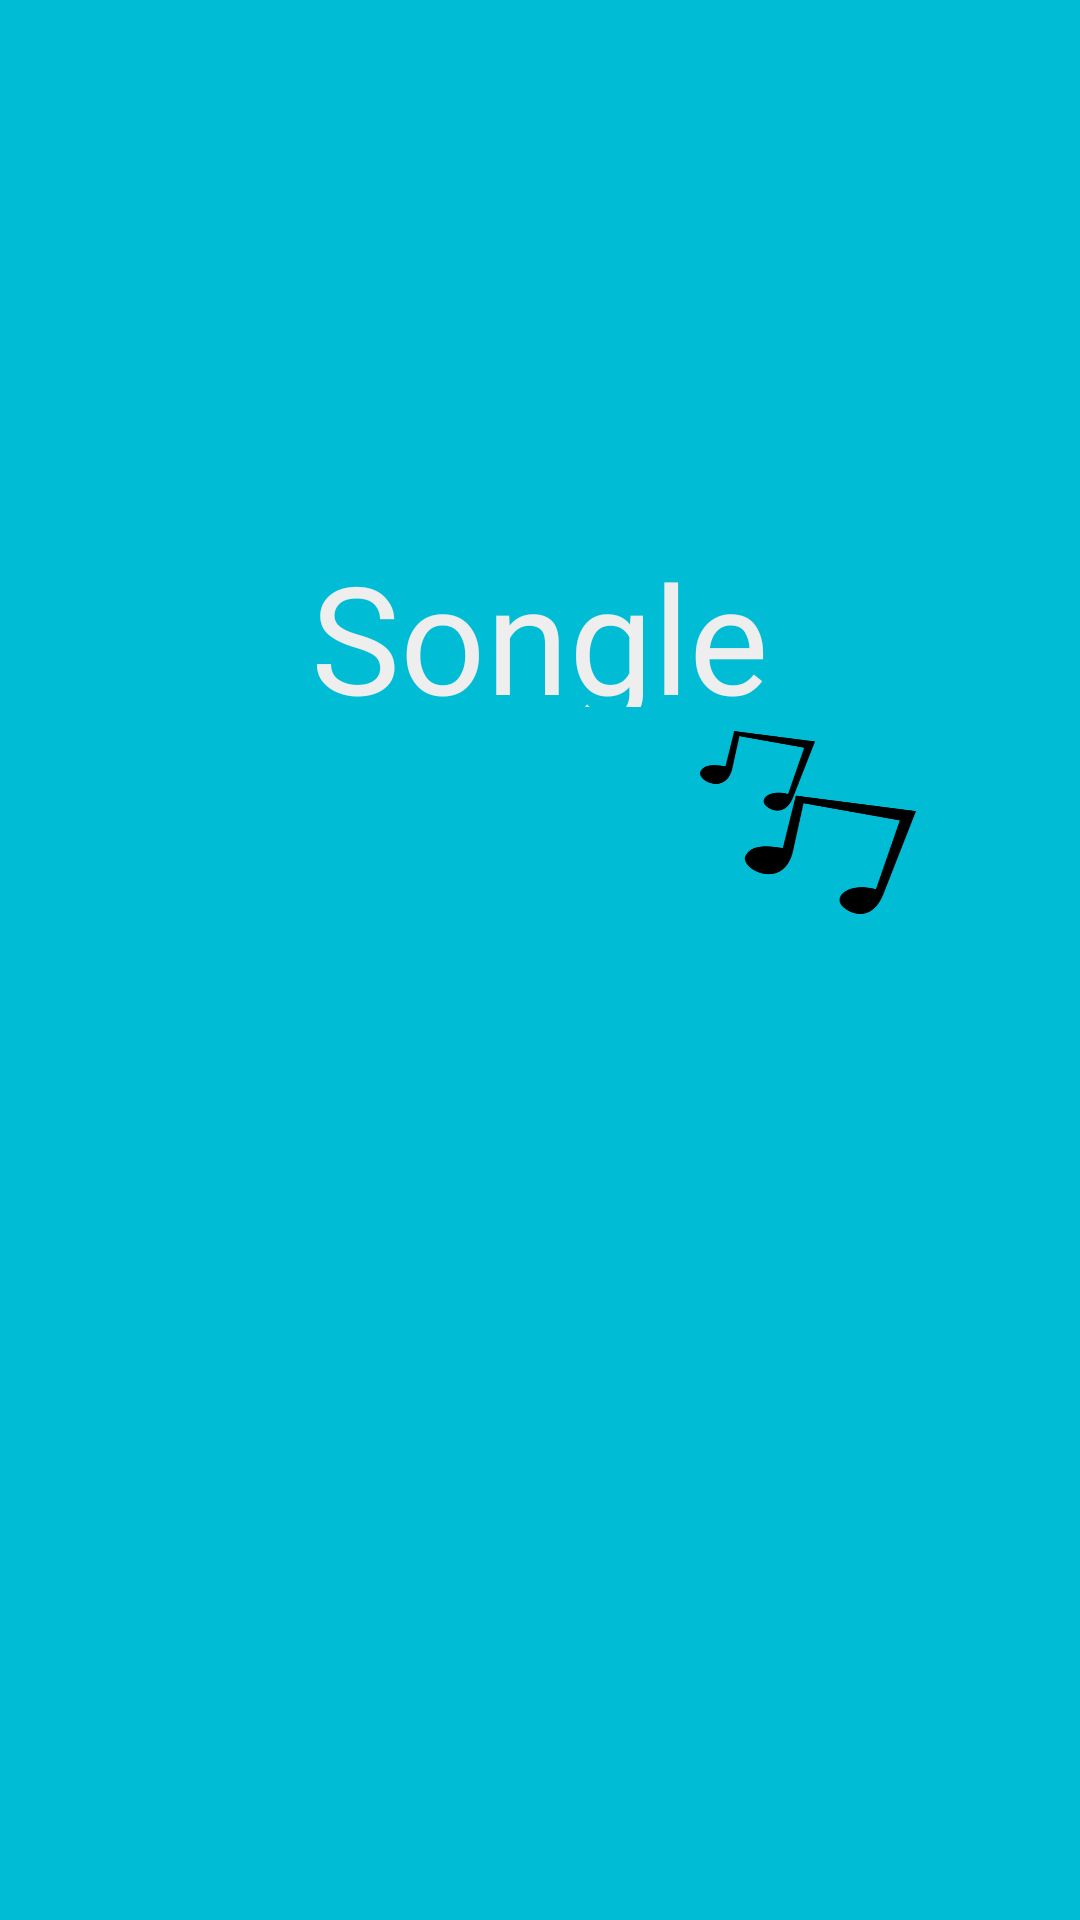

Where to tap for icons on this 1080*1920 app screen, as [x,y]:
double notes: [808,822]
